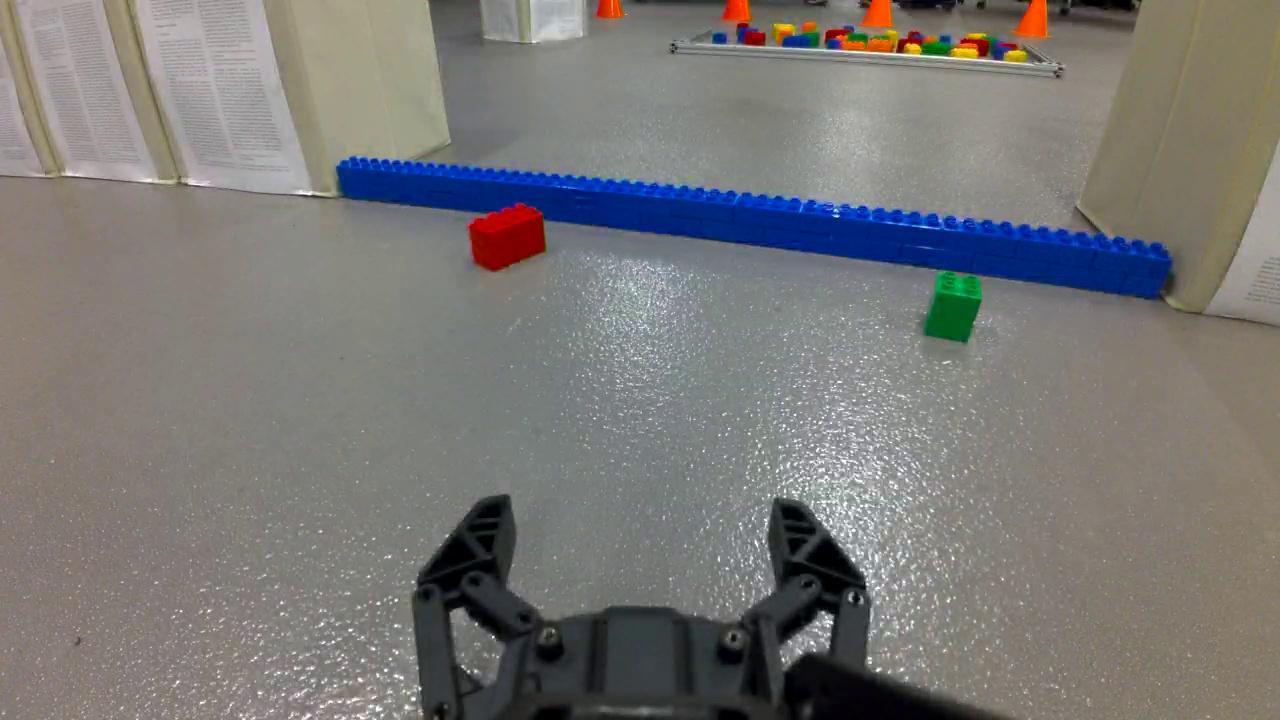2x2lego: (924, 269, 983, 343)
2x4lego: (465, 201, 547, 271)
